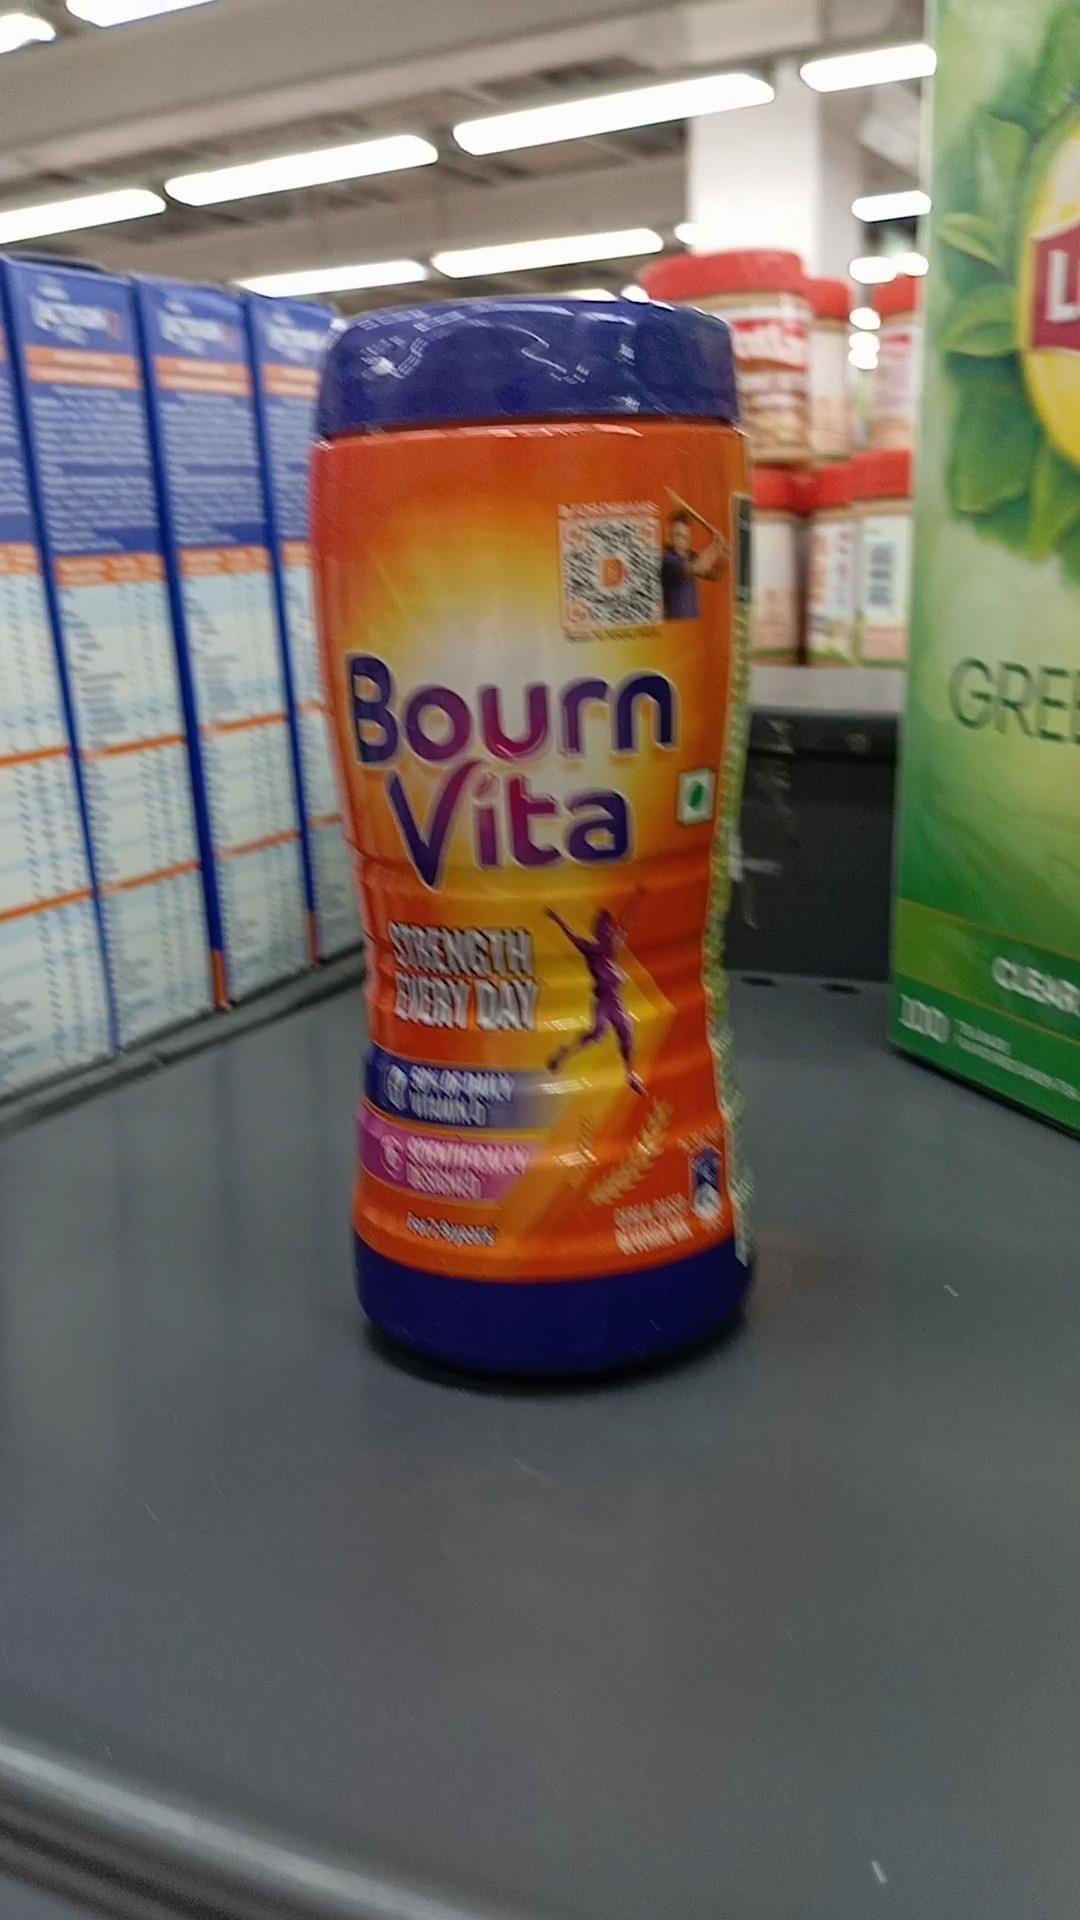BOURN_VITA_200_G_JAR: (298, 305, 752, 1377)
